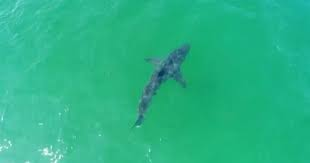shark: (129, 39, 195, 130)
